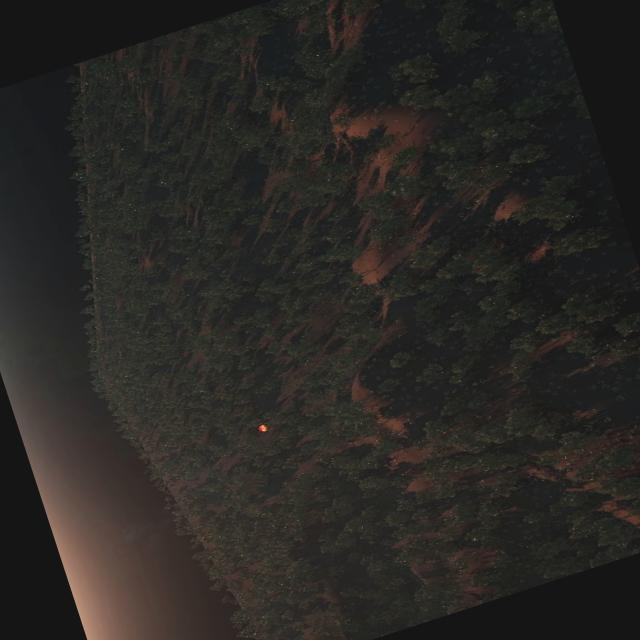fire: (258, 420, 270, 431)
